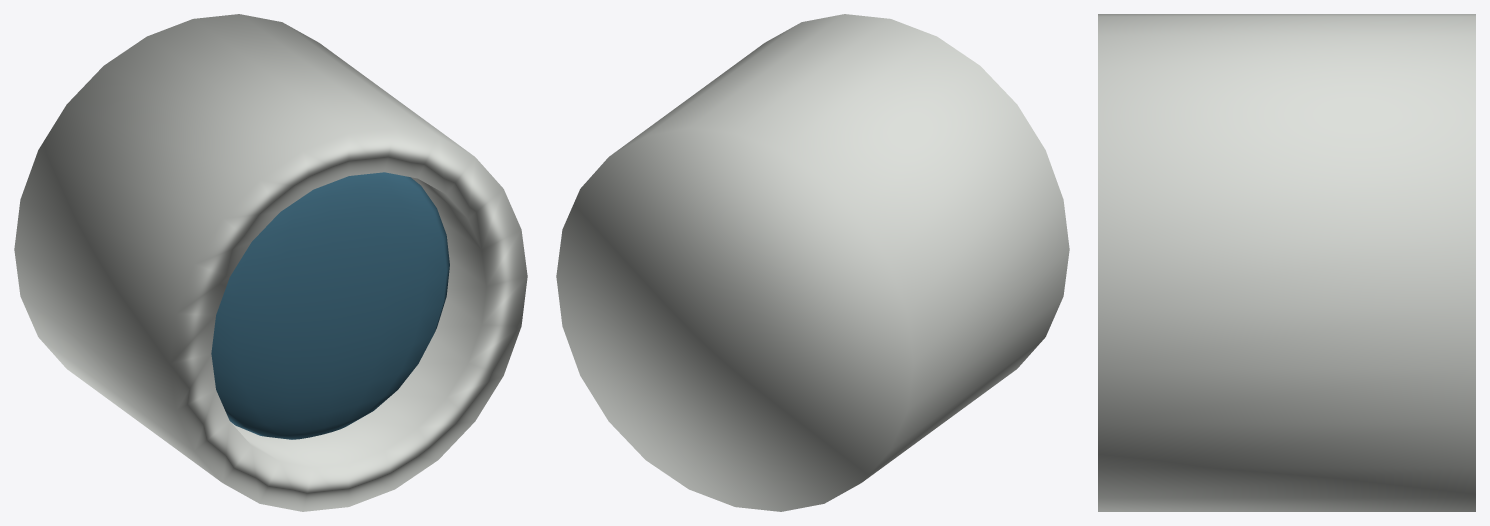
File: voyager_scan_platform.boom.azimuth.elevation.iris.glb
3 renders of one model, left to right at view 1: azimuth 30°, elevation 25°; view 2: azimuth 150°, elevation 25°; view 3: azimuth 270°, elevation 25°, orthographic. The views are drawn at different scales.
Visible parts, largest first — view 1: voyager_scan_platform.boom.azimuth.elevation.iris.mesh_Pale_, voyager_scan_platform.boom.azimuth.elevation.iris.lens.mesh_; view 2: voyager_scan_platform.boom.azimuth.elevation.iris.mesh_Pale_; view 3: voyager_scan_platform.boom.azimuth.elevation.iris.mesh_Pale_.
Part boxes in pixels (bbox=[...]): voyager_scan_platform.boom.azimuth.elevation.iris.mesh_Pale_: bbox=[14, 14, 527, 511]; voyager_scan_platform.boom.azimuth.elevation.iris.lens.mesh_: bbox=[211, 172, 449, 439]; voyager_scan_platform.boom.azimuth.elevation.iris.mesh_Pale_: bbox=[556, 14, 1069, 511]; voyager_scan_platform.boom.azimuth.elevation.iris.mesh_Pale_: bbox=[1098, 14, 1475, 511].
Size of the model in its own units: 0.172 by 0.172 by 0.13.
